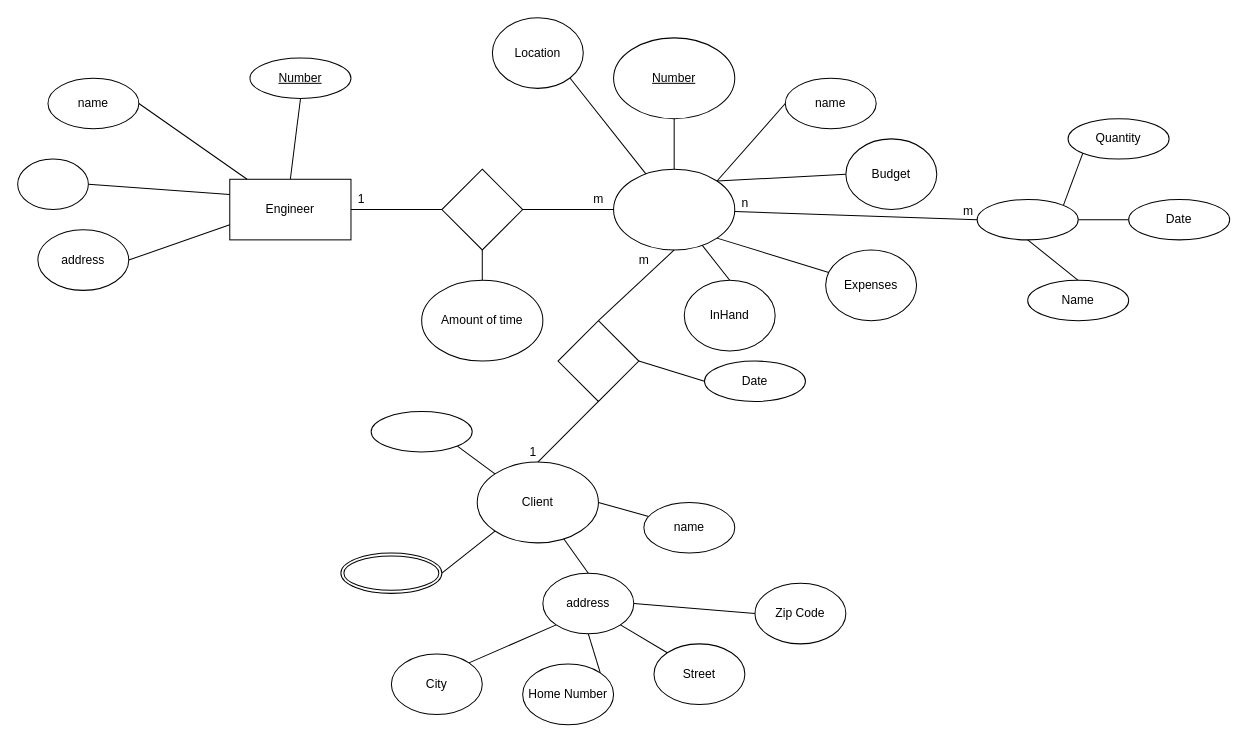
The diagram is 1247 pixels wide and 742 high, and some of its shapes have lost their labels. The shapes that lost their labels are listed below. From the top down, each one's centre as x and y in pixels, then its label:
point (52, 184): title
point (482, 209): works
point (674, 209): Projects
point (1027, 219): Machinery
point (598, 360): Contracts
point (421, 431): Client Number
point (391, 572): Phone Number
